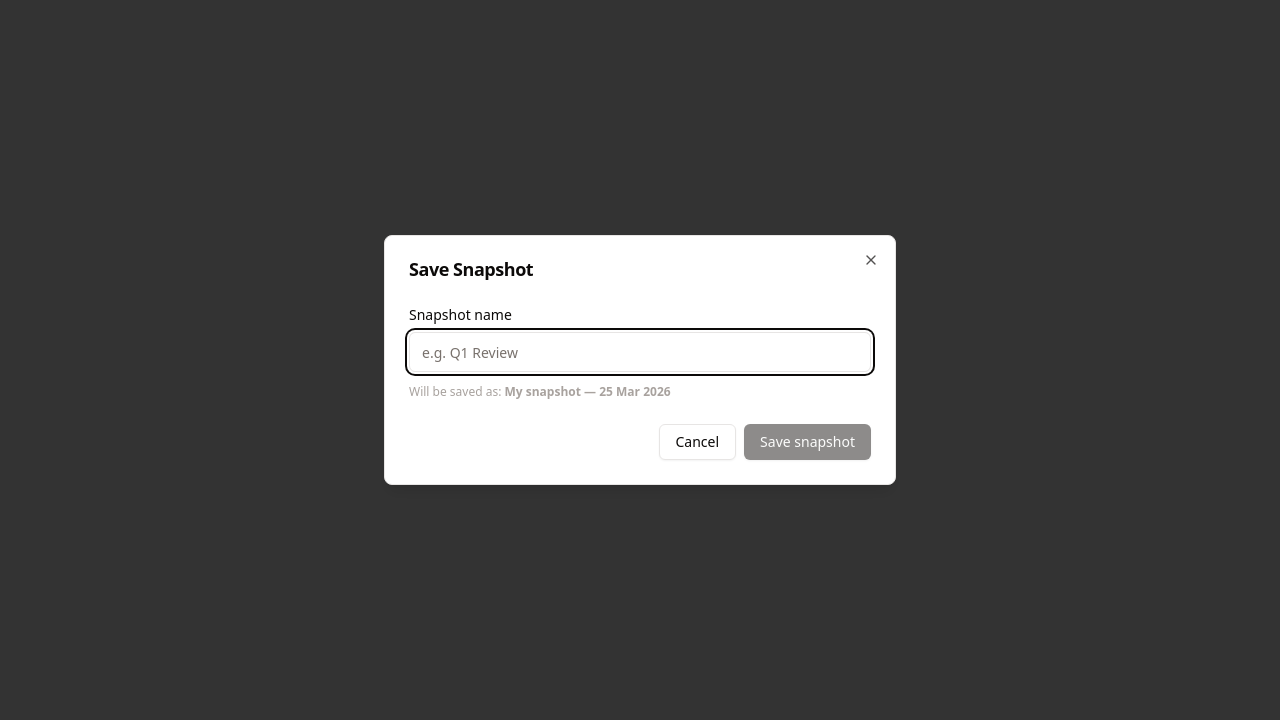
it: SnapshotNameDialog › preview text updates with typed name
Type "Q1 Review" into the field labelled "Snapshot name".
click(640, 352); type("Q1 Review")  # box x1=409 y1=332 x2=871 y2=372
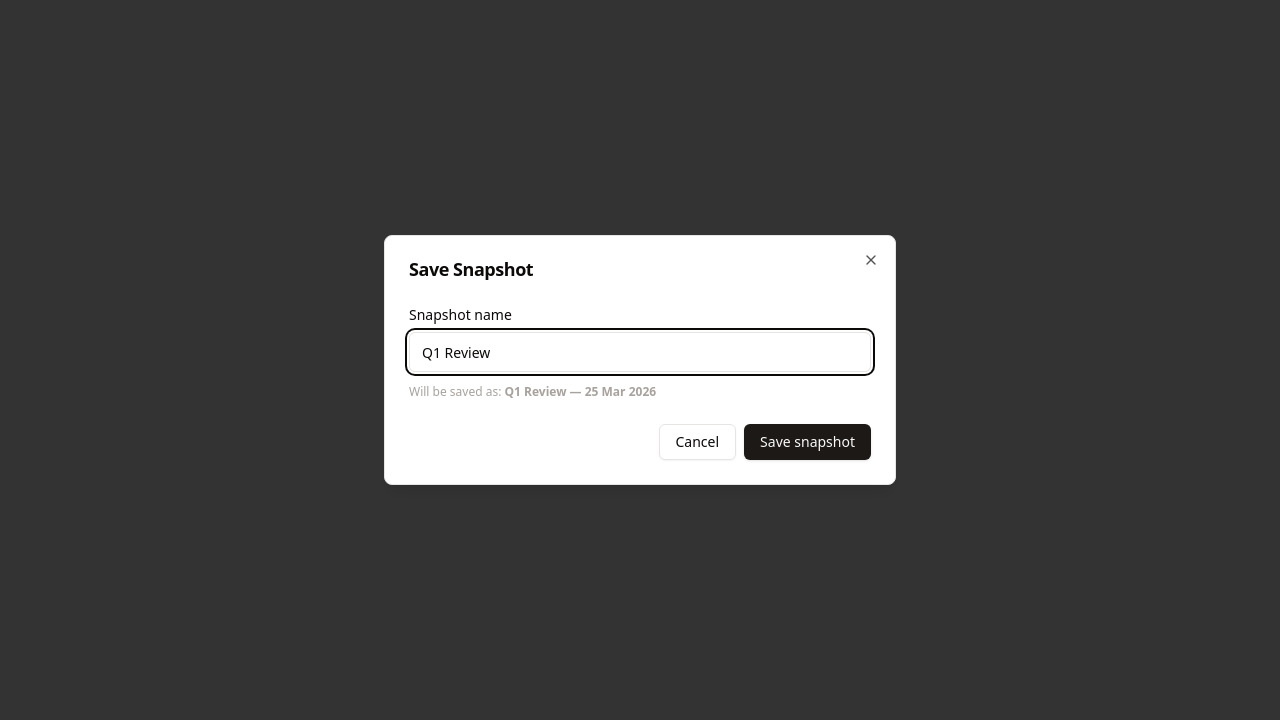
Check: the text "Q1 Review — 25 Mar 2026" is shown, box x1=504 y1=383 x2=656 y2=400
